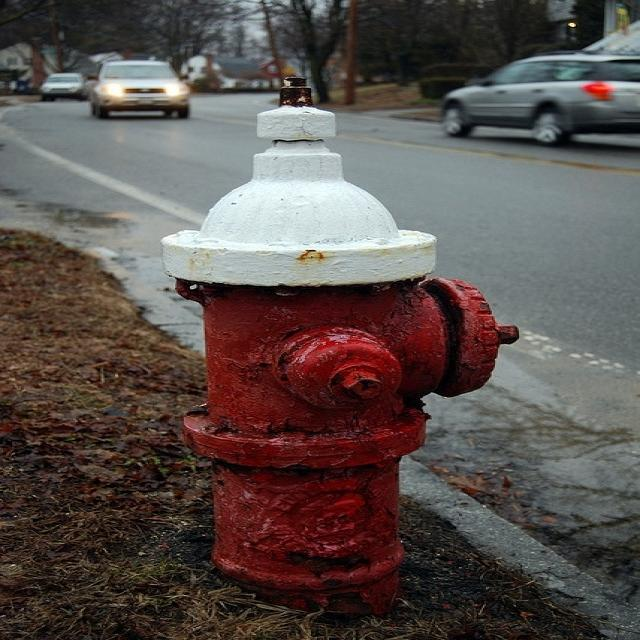fire_hydrant: (92, 77, 553, 620)
